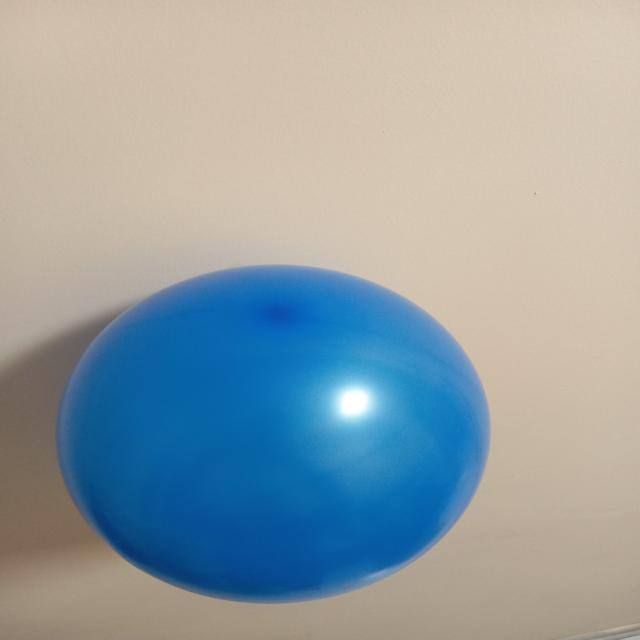balloon: (57, 265, 490, 603)
